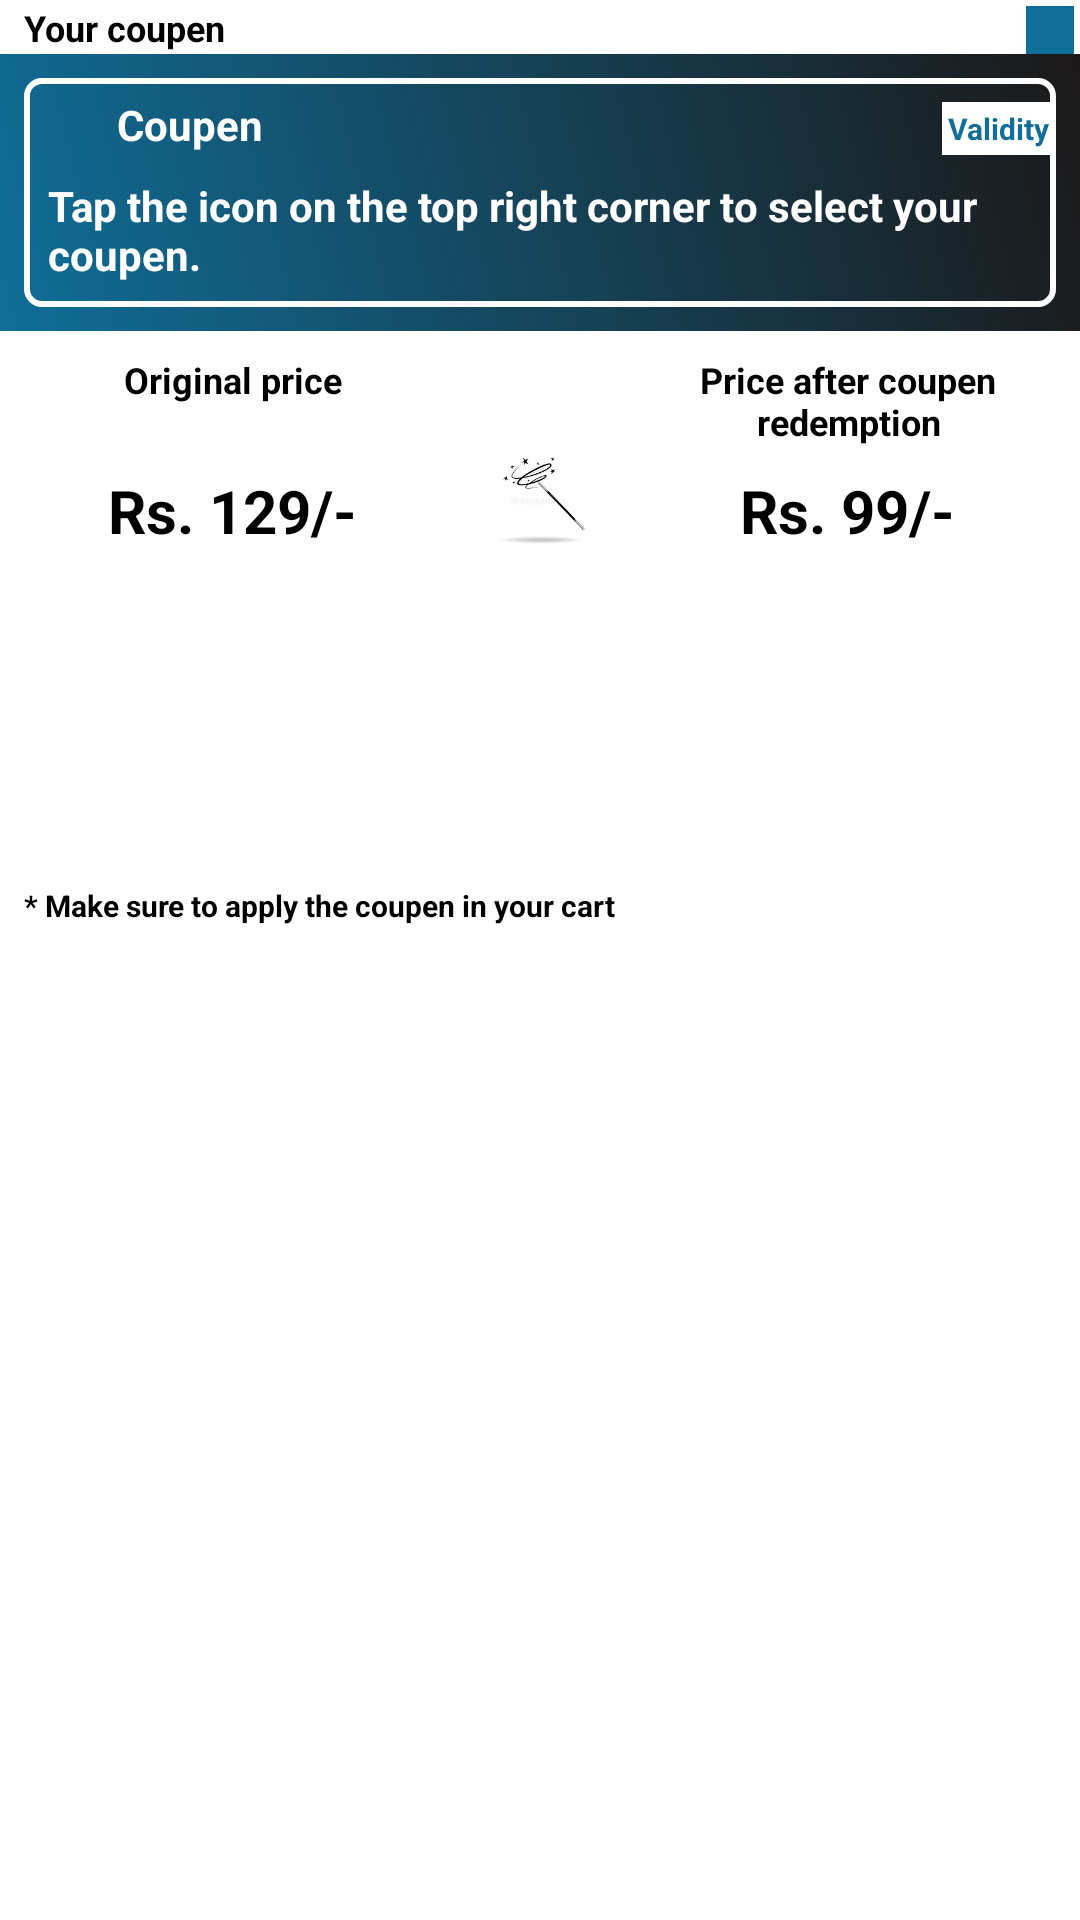

Screen size 1080*1920. Icon name, then its box in pixels as (x1, y1, x2, y2):
magic stick: (503, 457, 585, 542)
